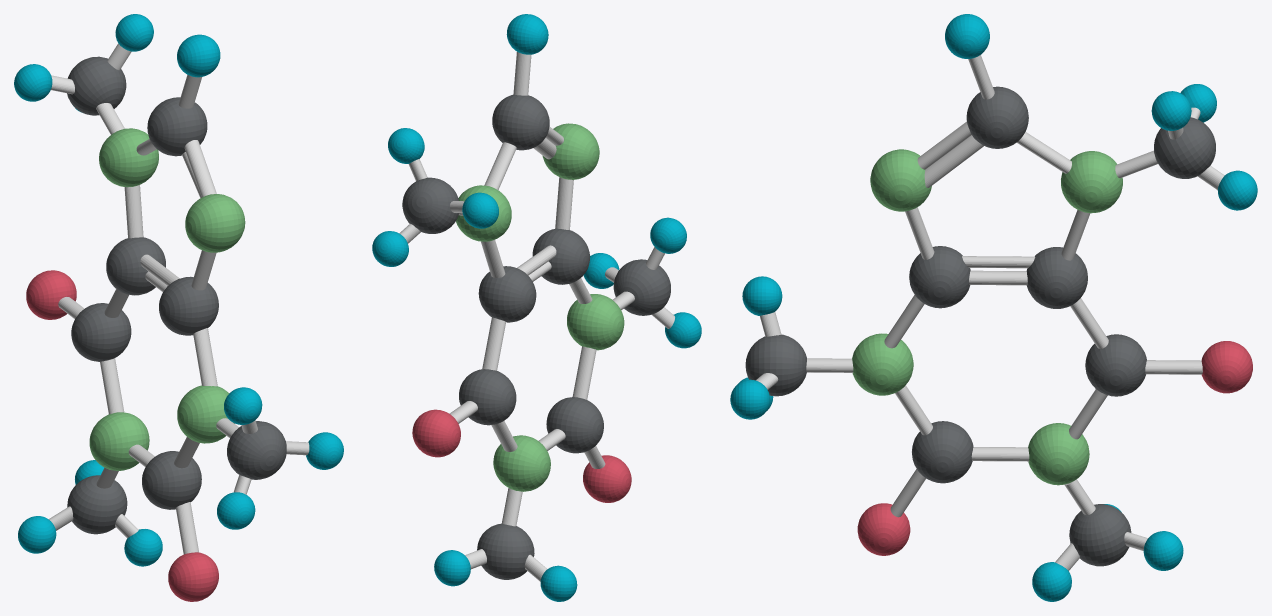
Rendered from Caffeine.glb.
3 renders of one model, left to right at view 1: azimuth 30°, elevation 25°; view 2: azimuth 150°, elevation 25°; view 3: azimuth 270°, elevation 25°, orthographic. The views are drawn at different scales.
Parts seen in each view (by area): view 1: Mesh_Mesh_head_geo.001_lambert2SG.001; view 2: Mesh_Mesh_head_geo.001_lambert2SG.001; view 3: Mesh_Mesh_head_geo.001_lambert2SG.001.
Boxes of the visible parts, left/top/right/bottom form: Mesh_Mesh_head_geo.001_lambert2SG.001: left=14, top=14, right=343, bottom=601; Mesh_Mesh_head_geo.001_lambert2SG.001: left=372, top=14, right=701, bottom=601; Mesh_Mesh_head_geo.001_lambert2SG.001: left=730, top=14, right=1257, bottom=601.
Bounding box in the file's own units: 17 × 55.49 × 44.77.
